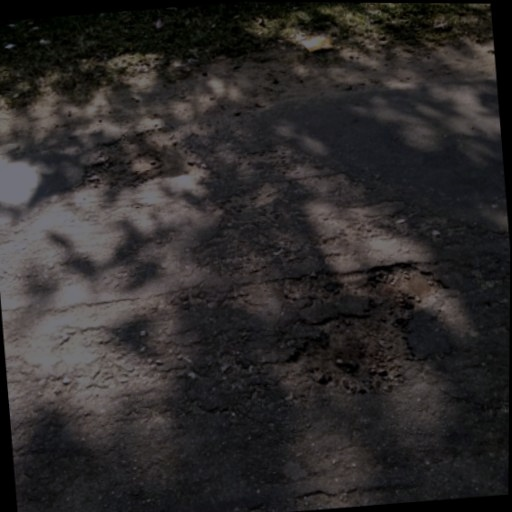pothole: (282, 305, 422, 403), (72, 121, 213, 195), (361, 255, 451, 315)
